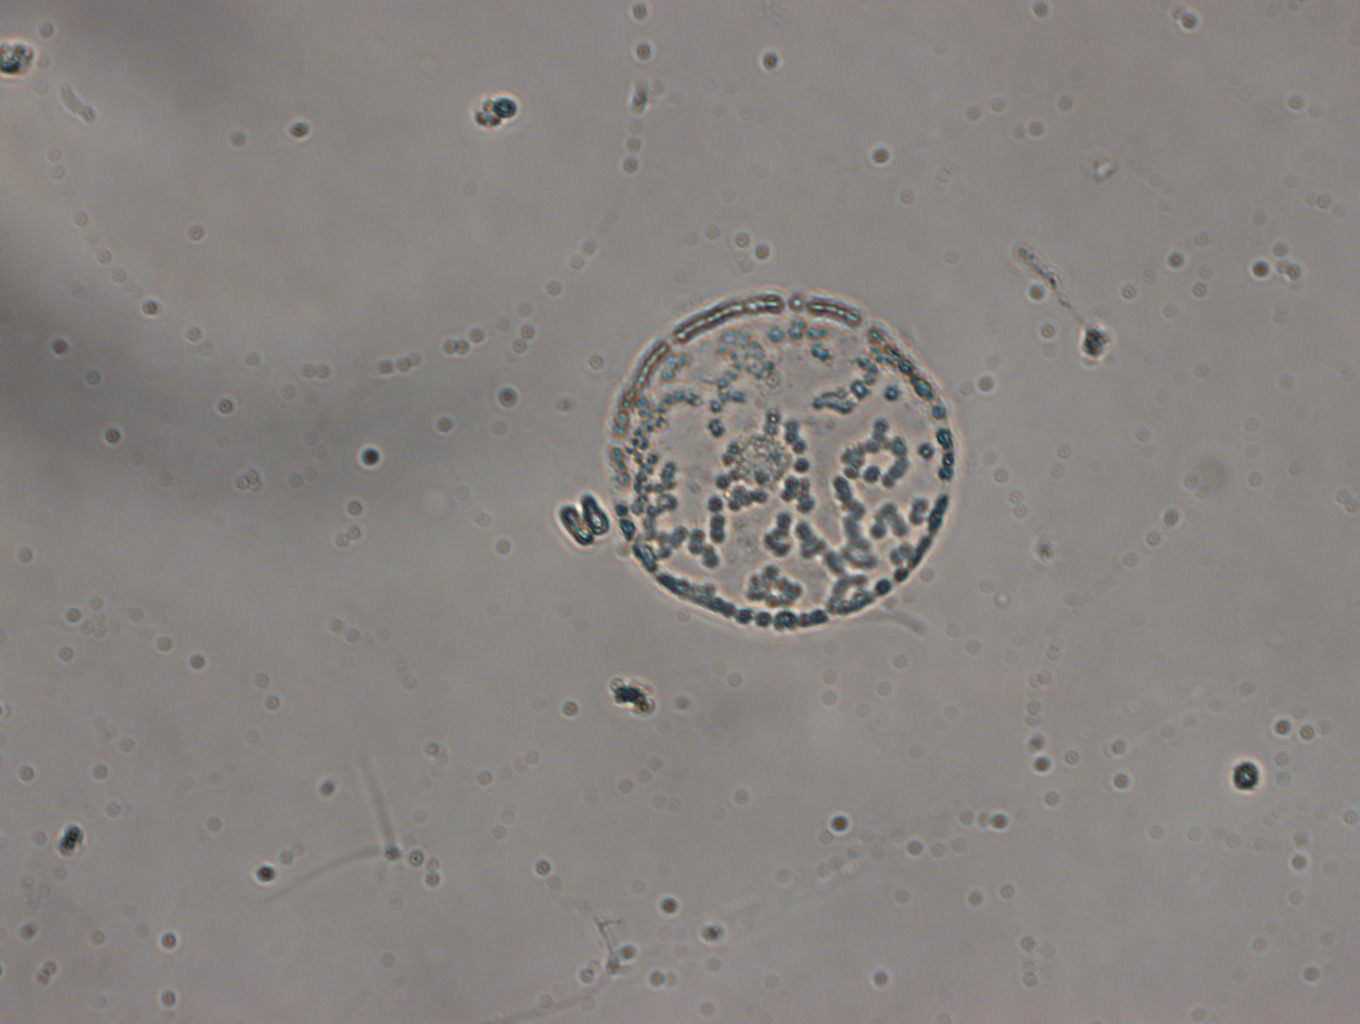coscinodiscus: (605, 291, 955, 634)
